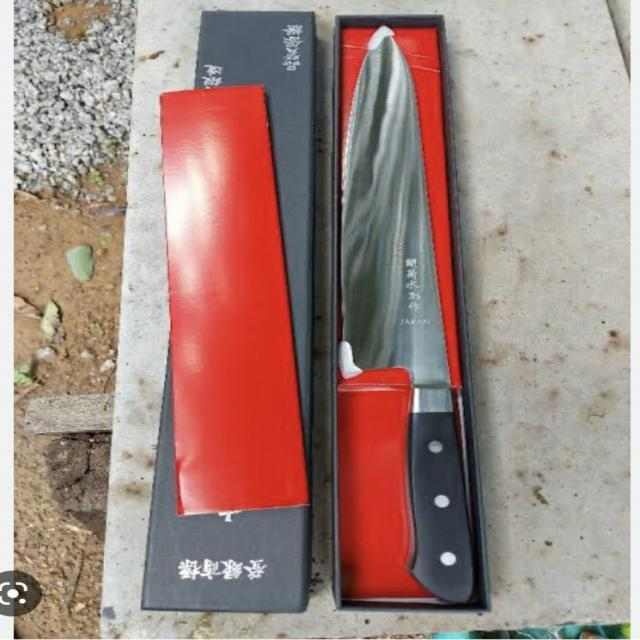Knife: (314, 23, 498, 620)
